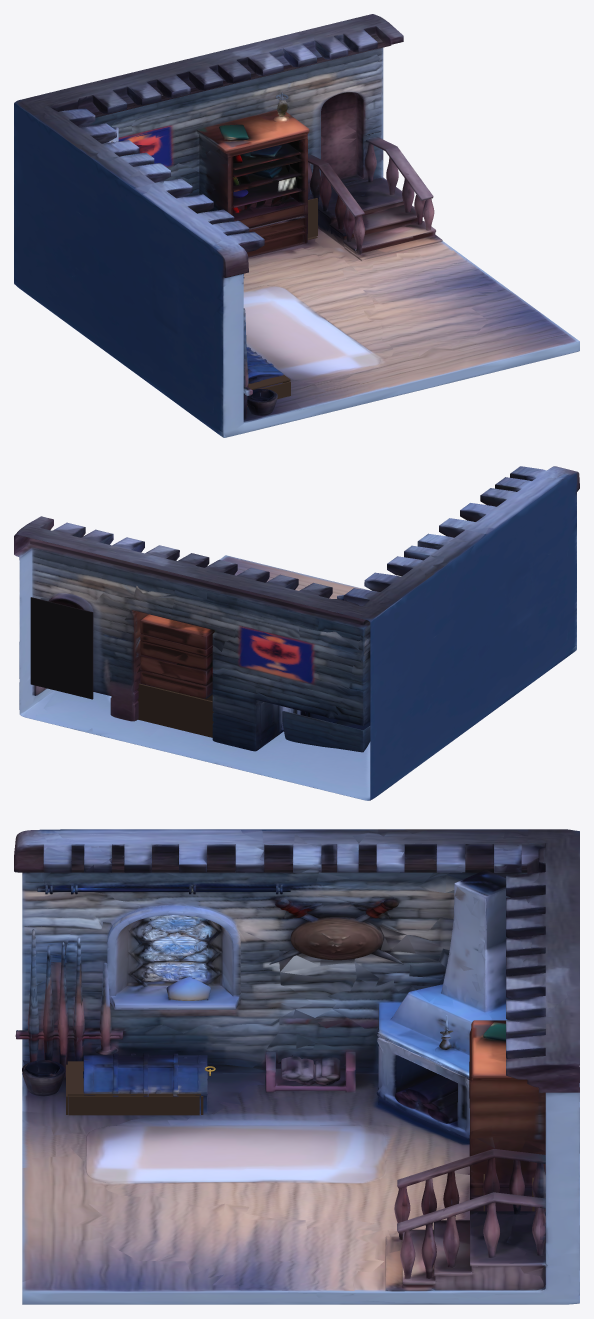
Rendered from adventure-room.glb.
3 views of the same model, one above another, from view 1: azimuth 30°, elevation 25°; view 2: azimuth 150°, elevation 25°; view 3: azimuth 270°, elevation 25° (orthographic). The views are drawn at different scales.
Parts seen in each view (by area): view 1: ArchitectureMesh, FireplaceMesh, CabinetMesh, RugMesh, StairsMesh, WindowMesh, BannerMesh, DoorMesh, ShieldMesh, CabinetRightMesh, BucketLeftMesh, BookCoverMesh (+2 smaller); view 2: ArchitectureMesh, FireplaceMesh, CabinetMesh, DoorwayDepth, BannerMesh, WindowMesh, CabinetInnerBack, ShieldMesh, StairsMesh; view 3: ArchitectureMesh, FireplaceMesh, RugMesh, WindowMesh, StairsMesh, CabinetMesh, ShieldMesh, ChestLidMesh, LogBasketMesh, ChestInteriorFront, BucketLeftMesh, LidUnderside (+2 smaller).
Boxes of the visible parts, x1,y1,x2,y2 form: ArchitectureMesh: (14, 14, 579, 437); FireplaceMesh: (14, 64, 268, 357); CabinetMesh: (190, 87, 315, 240); RugMesh: (244, 278, 418, 388); StairsMesh: (308, 127, 422, 248); WindowMesh: (163, 258, 214, 383); BannerMesh: (117, 97, 203, 181); DoorMesh: (321, 92, 360, 180); ShieldMesh: (117, 200, 167, 286); CabinetRightMesh: (262, 204, 333, 254); BucketLeftMesh: (246, 389, 301, 420); BookCoverMesh: (208, 124, 273, 150); ArchitectureMesh: (14, 466, 579, 800); FireplaceMesh: (220, 535, 478, 797); CabinetMesh: (110, 587, 226, 744); DoorwayDepth: (30, 597, 93, 699); BannerMesh: (213, 601, 298, 690); WindowMesh: (517, 520, 568, 655); CabinetInnerBack: (137, 683, 213, 736); ShieldMesh: (473, 537, 521, 618); StairsMesh: (33, 639, 115, 716); ArchitectureMesh: (14, 829, 579, 1304); FireplaceMesh: (280, 829, 579, 1164); RugMesh: (81, 1120, 385, 1212); WindowMesh: (41, 892, 194, 1040); StairsMesh: (430, 1149, 545, 1290); CabinetMesh: (469, 1020, 545, 1211); ShieldMesh: (165, 872, 315, 954); ChestLidMesh: (83, 1052, 207, 1096); LogBasketMesh: (199, 1052, 318, 1114); ChestInteriorFront: (68, 1095, 199, 1115); BucketLeftMesh: (22, 1060, 68, 1113); LidUnderside: (67, 1061, 200, 1095).
Size of the model in its own units: 8.86 by 4.3 by 9.
Materials: 5 (1 with a texture image).
